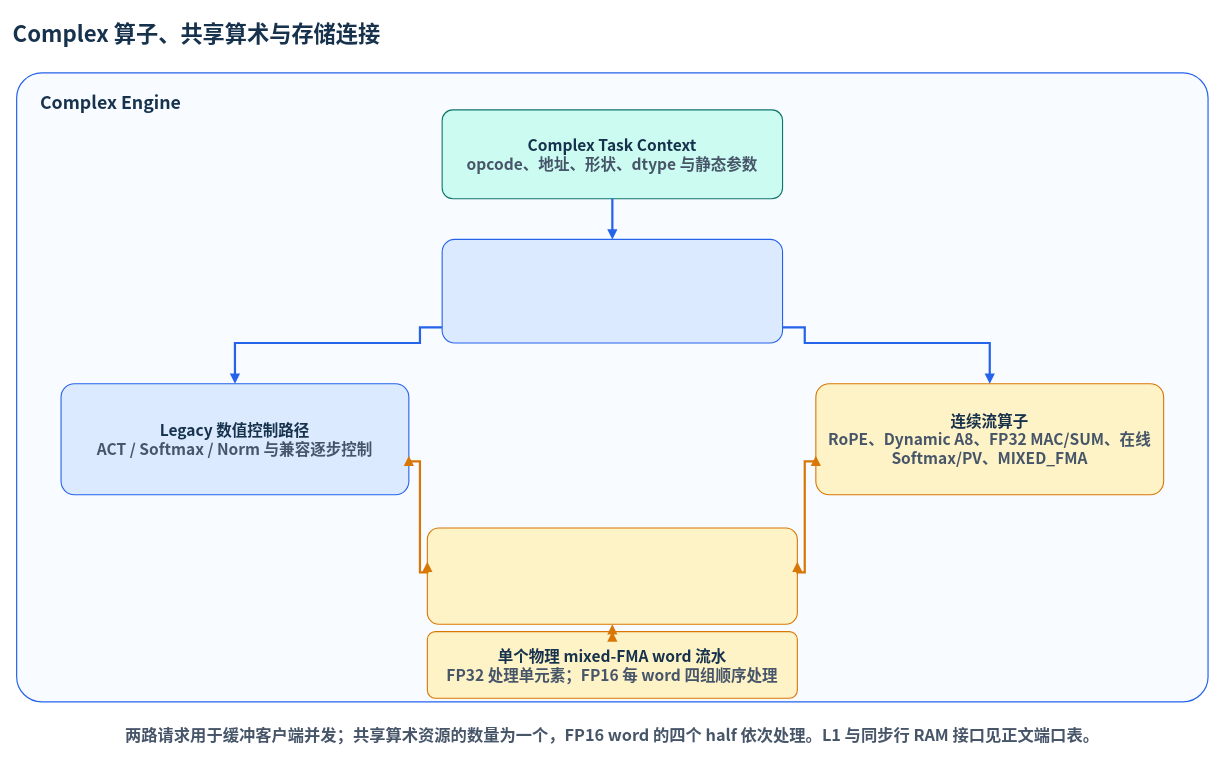
Image size: 1224x759. Some labels were removed from this diagram. Each missing label, with the centre of its shape:
"Arithmetic Fabric + 双逻辑请求 FIFO 每个 owner 两项；按 tag 归属结果 两个逻辑入口仲裁到单个算术流水" belongs at point (612, 575).
"任务路由与单任务上下文 按 opcode 选择 Legacy 控制器或连续流算子" belongs at point (612, 291).
